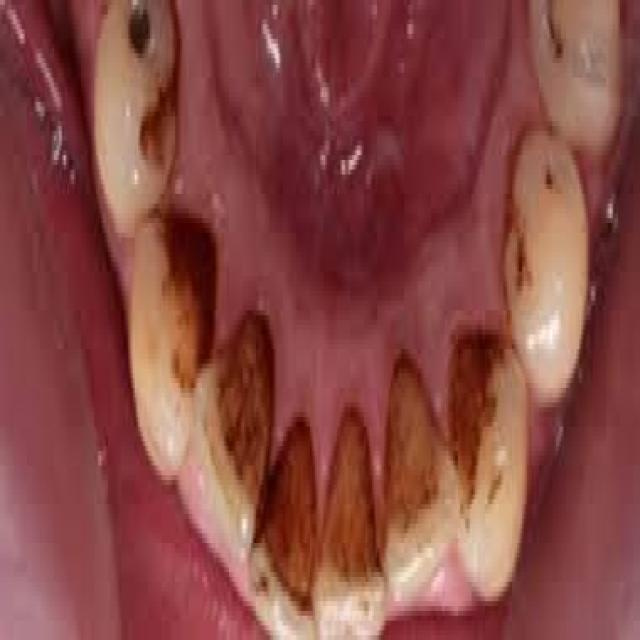Tooth Discoloration: (131, 39, 507, 616)
